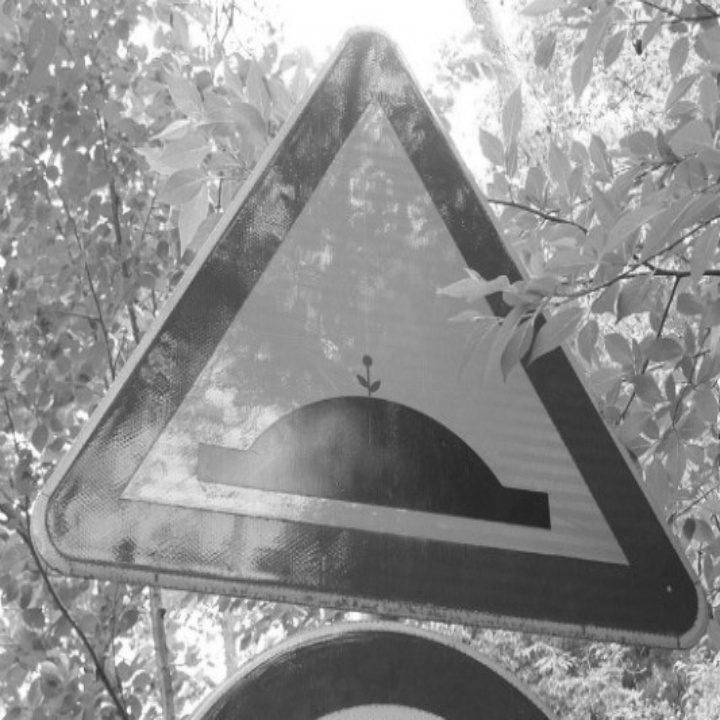bump: (152, 349, 576, 548)
